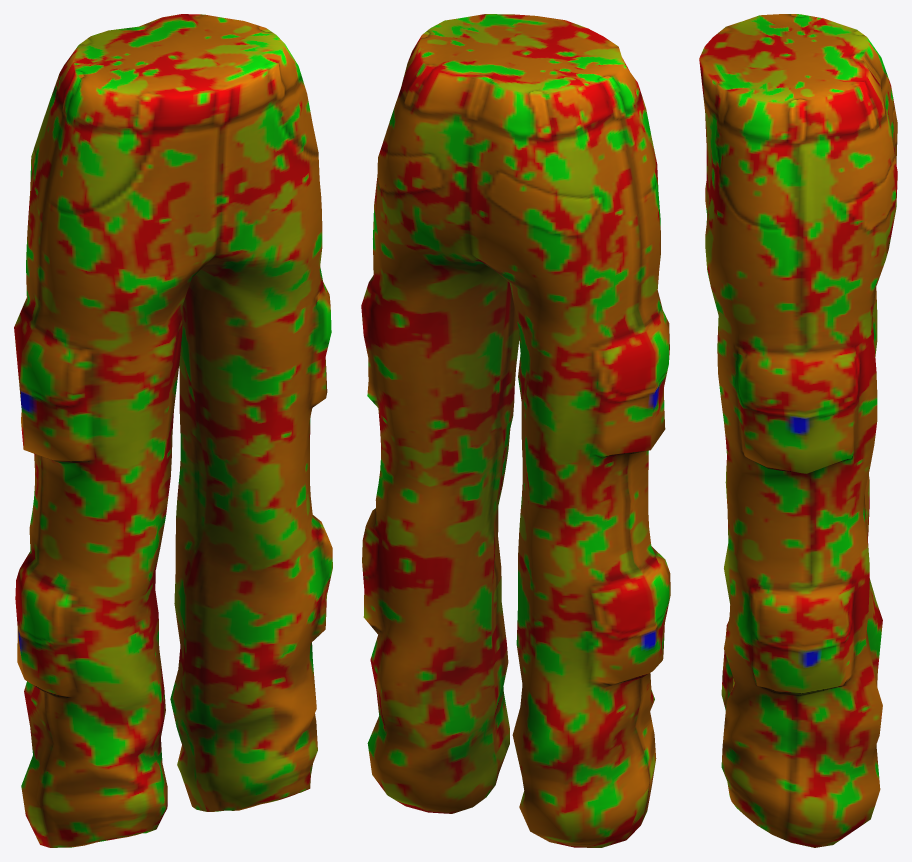
File: Bottom_CamoPants.obj
The picture shows the model from 3 angles, left to right: view 1: azimuth 30°, elevation 25°; view 2: azimuth 150°, elevation 25°; view 3: azimuth 270°, elevation 25°; orthographic projection. The views are drawn at different scales.
Parts seen in each view (by area): view 1: Bottom_CamoPants_0; view 2: Bottom_CamoPants_0; view 3: Bottom_CamoPants_0.
Boxes of the visible parts, left/top/right/bottom form: Bottom_CamoPants_0: left=14, top=14, right=332, bottom=847; Bottom_CamoPants_0: left=361, top=14, right=670, bottom=847; Bottom_CamoPants_0: left=699, top=14, right=897, bottom=847.
Size of the model in its own units: 0.4134 by 1.03 by 0.2512.
1 material, 1 textured.
